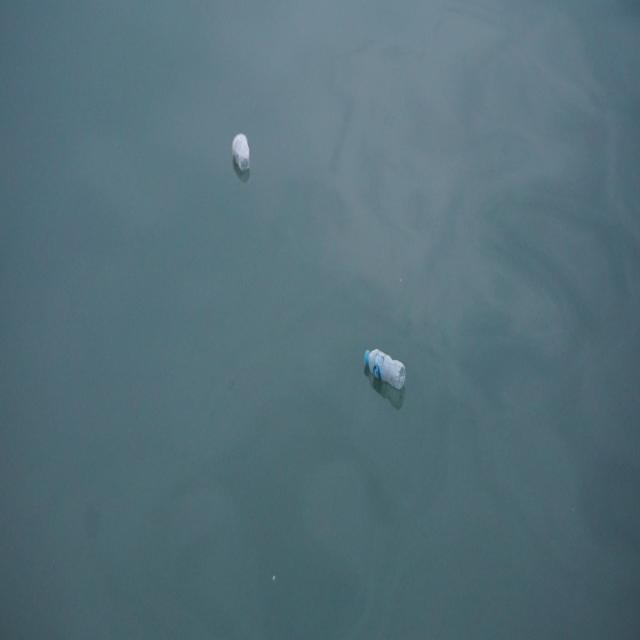Botol Plastik: (363, 342, 411, 399)
Bungkus Minuman: (230, 127, 254, 184)
